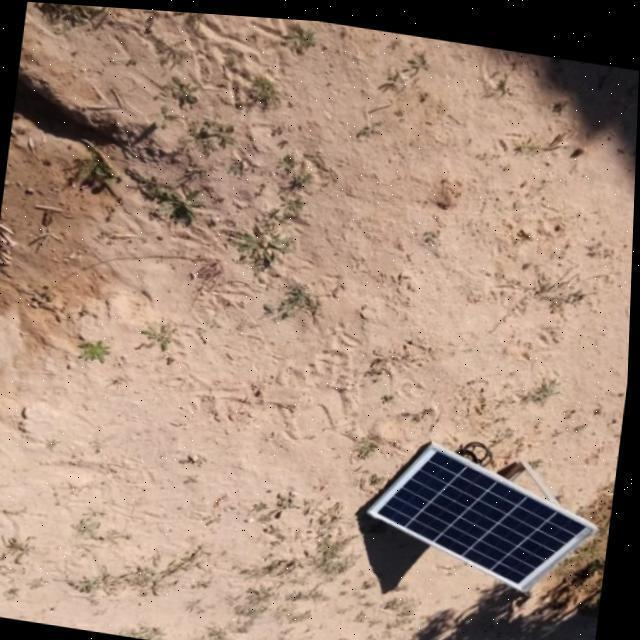Normal Solar Panel: (364, 428, 607, 592)
